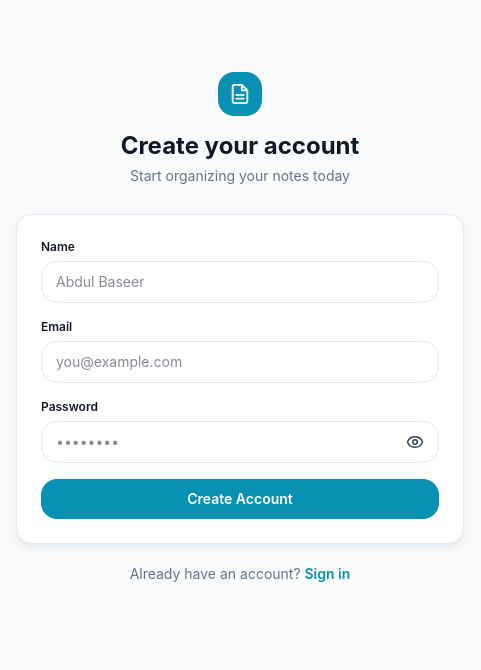
Scenario: SignupPage › shows server error on duplicate email
Type "Abdul" into the field with placeholder "Abdul Baseer".
click(240, 282); type("Abdul")  # box [41,261,439,303]
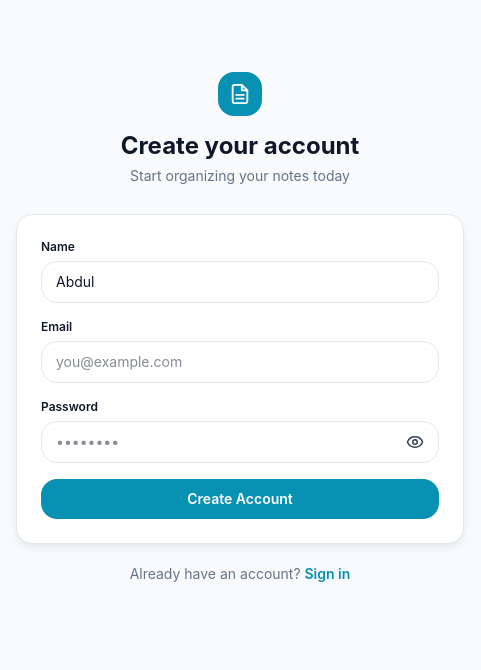
Type "taken@test.com" into the field with placeholder "you@example.com".
click(240, 362); type("taken@test.com")  # box [41,341,439,383]
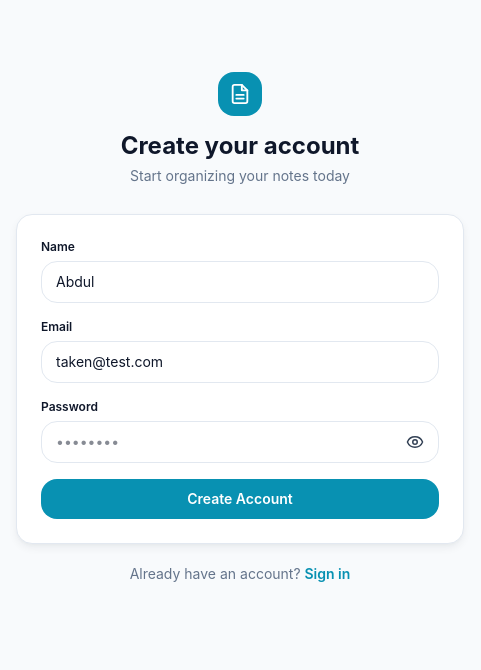
Type "Password123!" into the password field with placeholder "••••••••".
click(240, 442); type("Password123!")  # box [41,421,439,463]
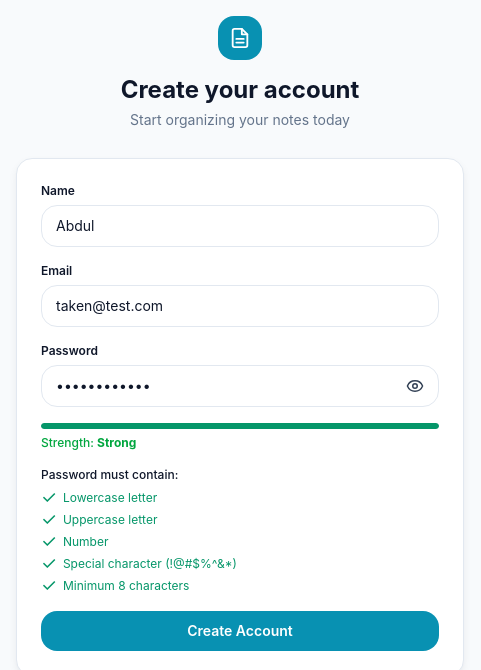
Click the button "Create Account".
click(240, 631)  # box [41,611,439,651]
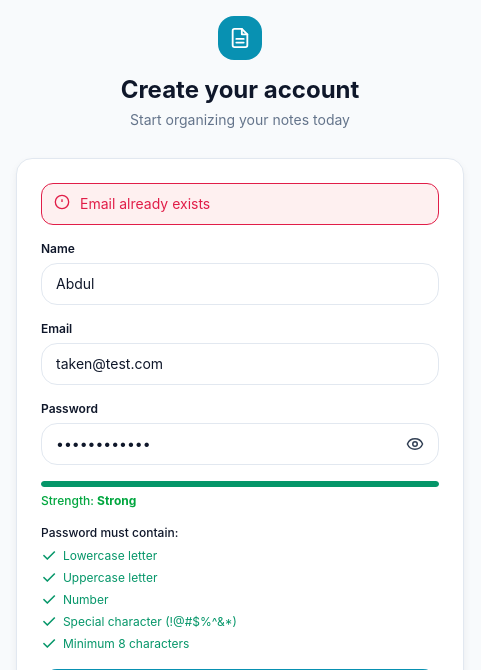
Expected: the text "Email already exists" is shown, [80,194,210,214]
